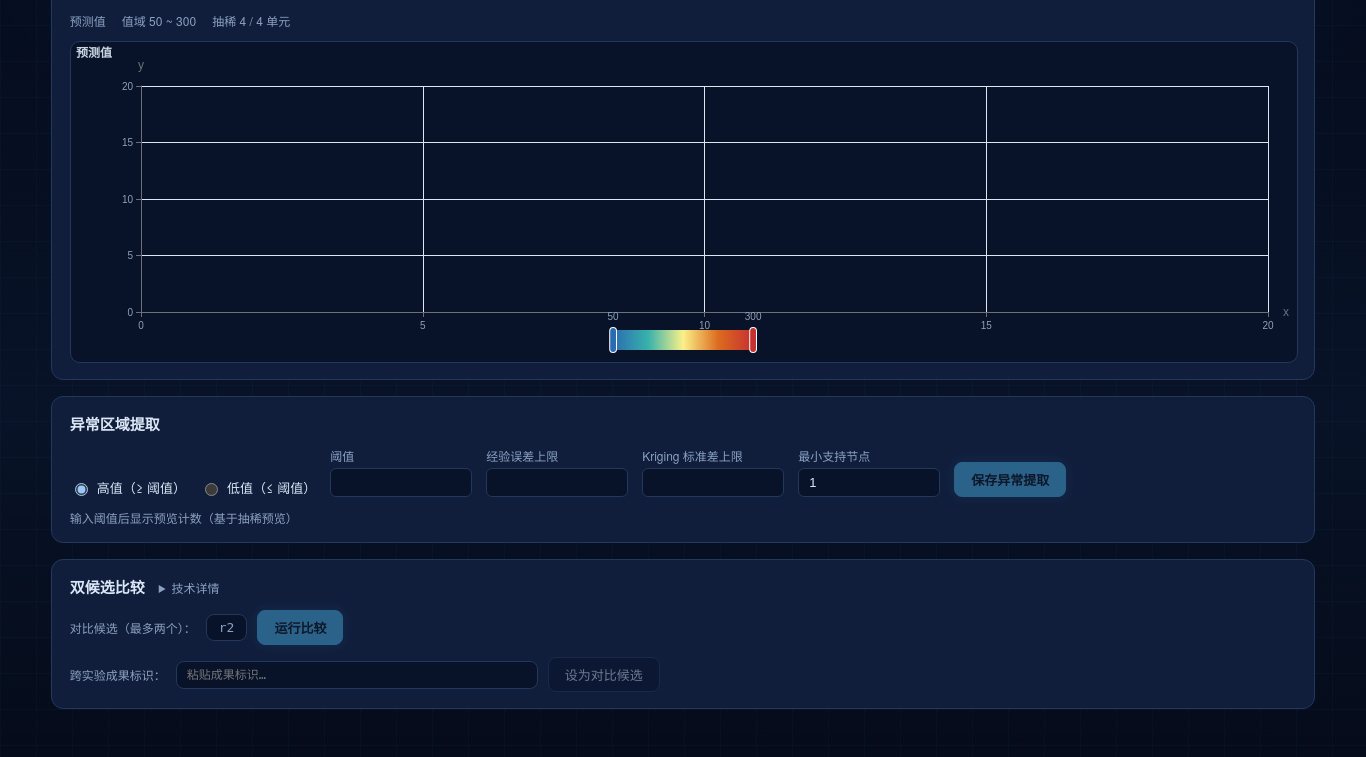
Test: CandidateComparison 双候选比较 › 不兼容比较显示原因且禁止显示指标差
(page scrolled)
Step 1. Click the button with test id "comparison-second-r2" → (227, 628), box [206,614,248,641]
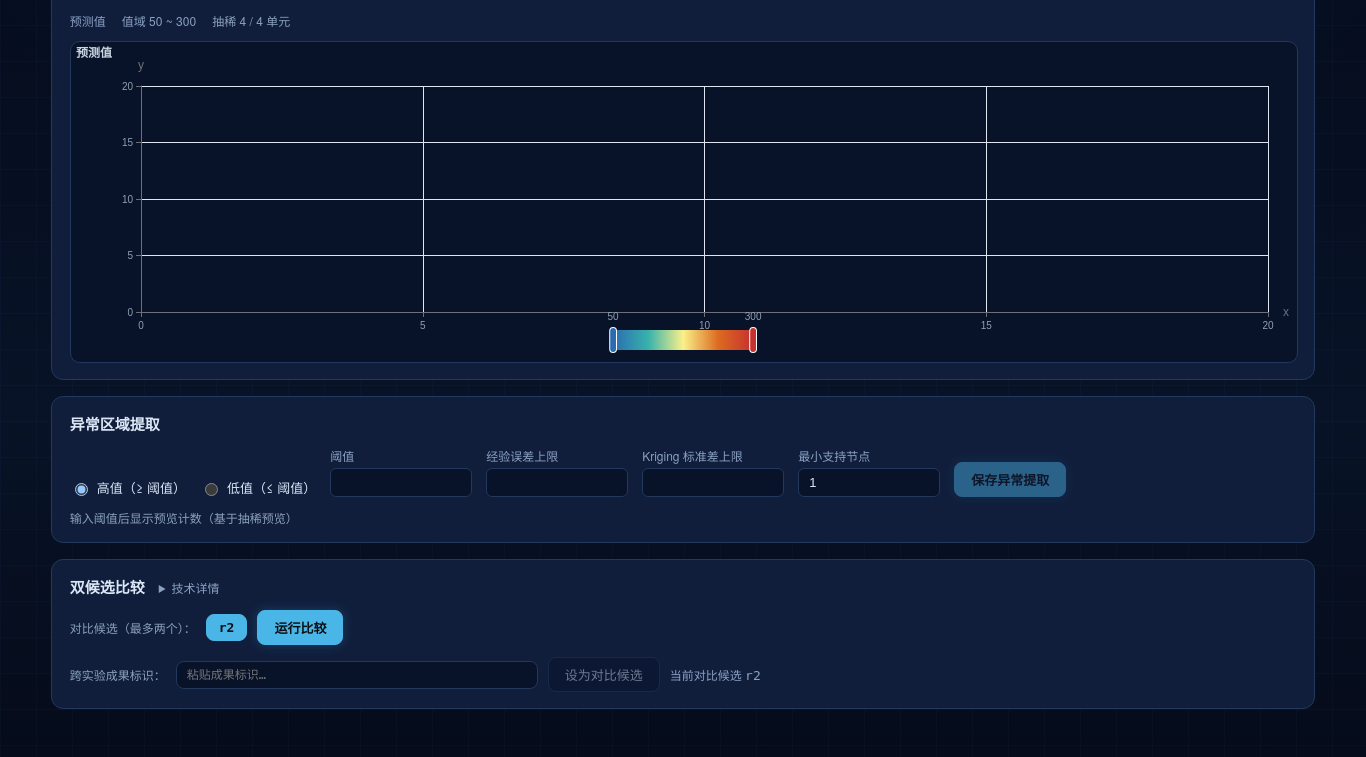
Step 2. Click the button with test id "comparison-run" → (300, 628), box [257,610,343,645]
(page scrolled)
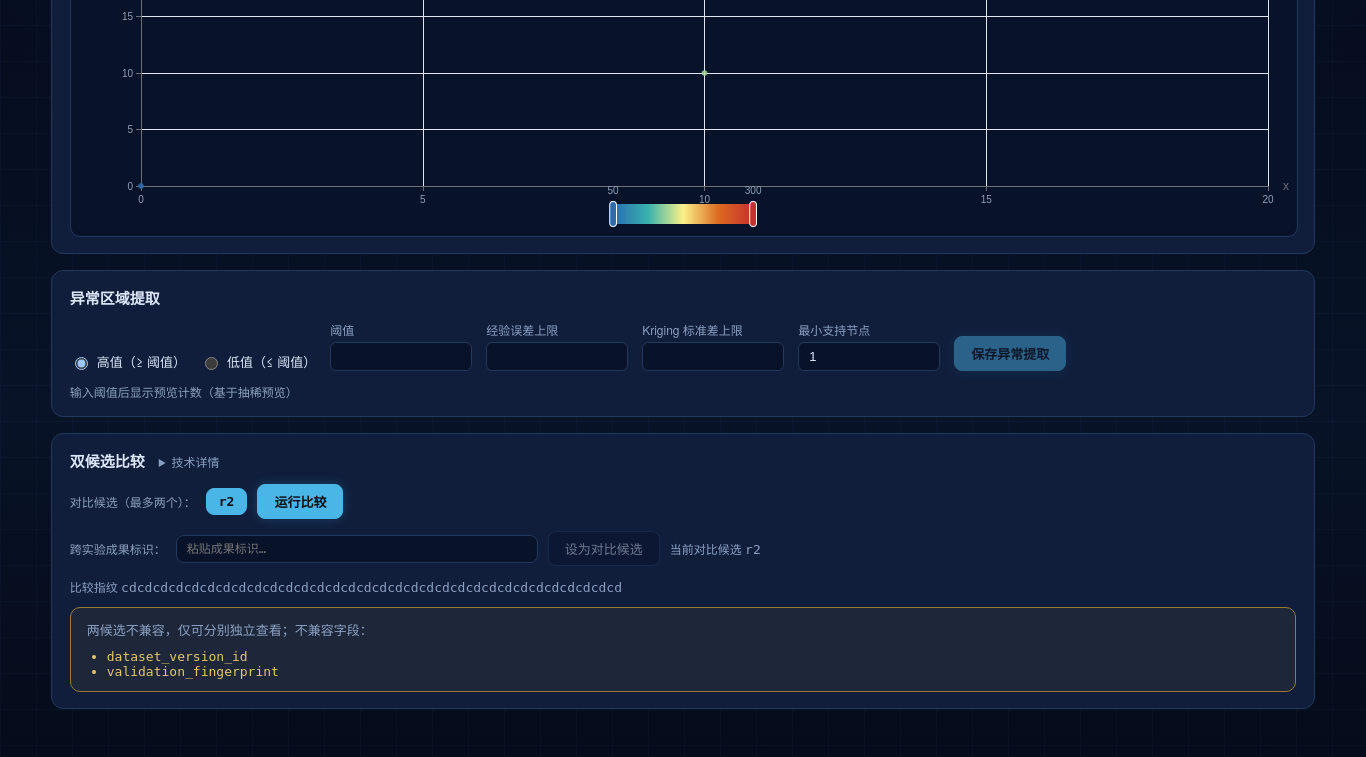
Check: the element with test id "comparison-incompatible" is shown, box [70,607,1296,692]
Check: the list with test id "mismatch-reasons" shows "dataset_version_id", box [107,649,248,664]
Check: the list with test id "mismatch-reasons" shows "validation_fingerprint", box [107,664,279,679]
